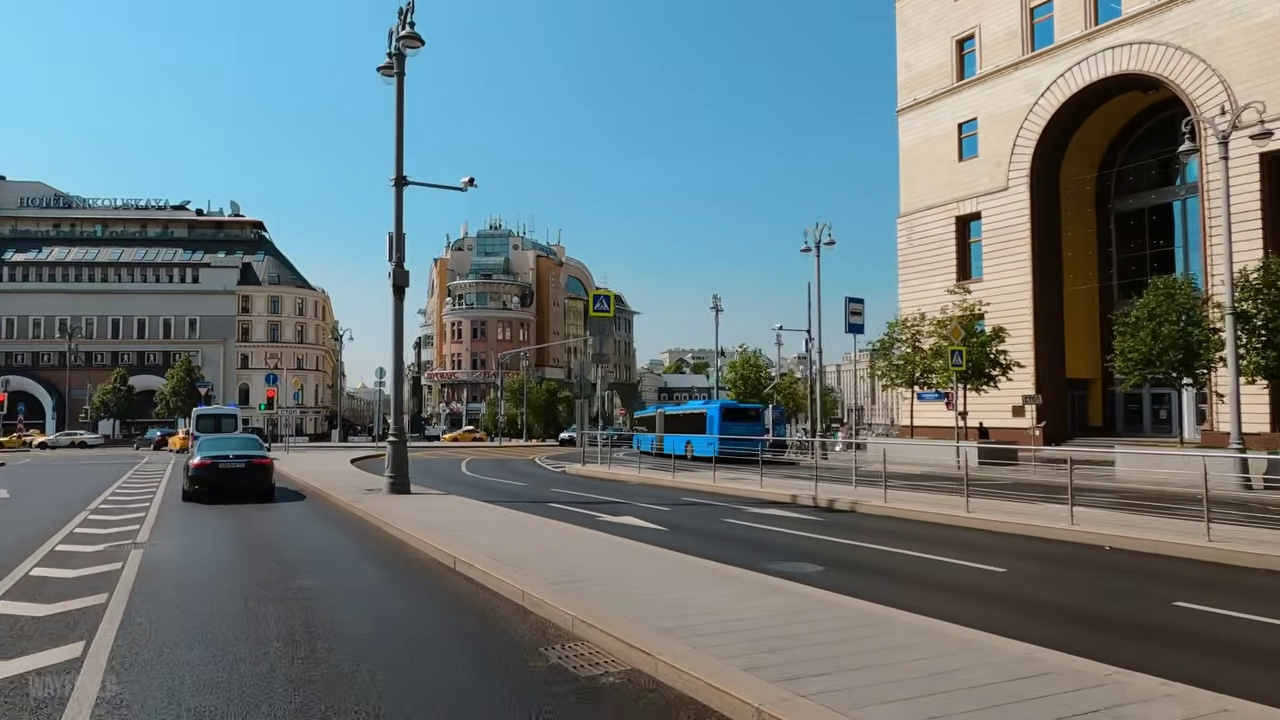apagada: (373, 26, 426, 82), (372, 42, 420, 90), (801, 230, 839, 257)
